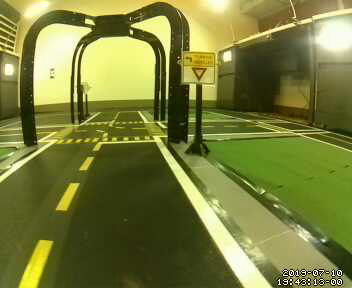Turn Yield: (180, 49, 216, 88)
